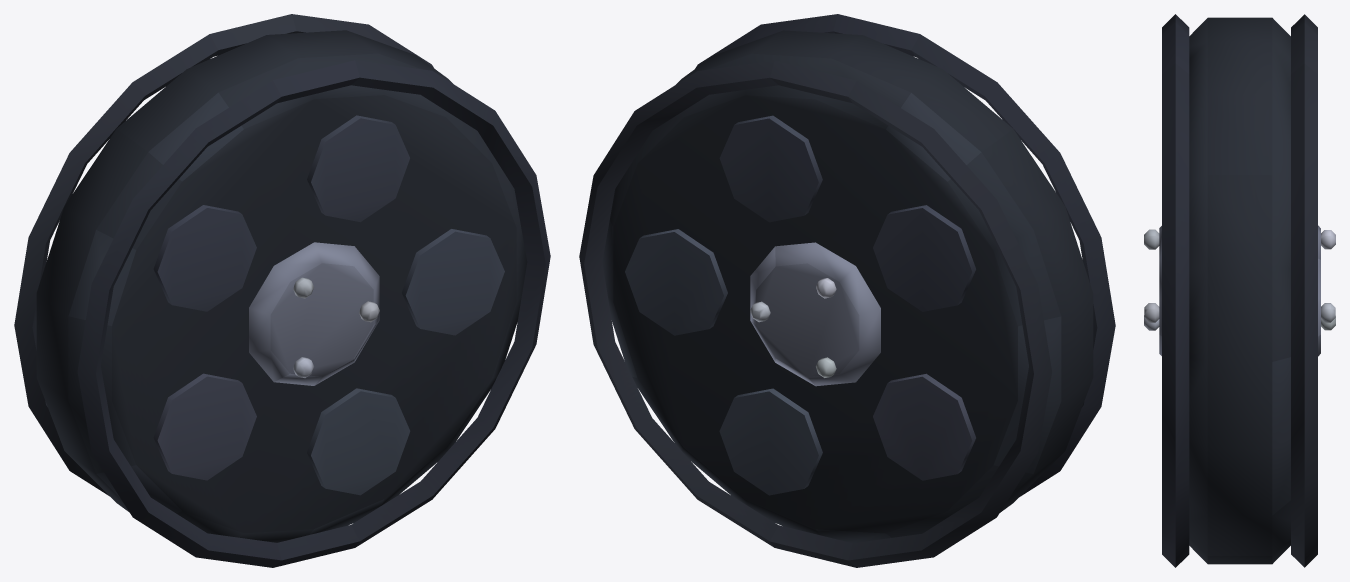
File: SM_Station_FilmCamera_Reel.fbx
The picture shows the model from 3 angles, left to right: view 1: azimuth 30°, elevation 25°; view 2: azimuth 150°, elevation 25°; view 3: azimuth 270°, elevation 25°; orthographic projection.
Parts seen in each view (by area): view 1: SM_Station_FilmCamera_Reel; view 2: SM_Station_FilmCamera_Reel; view 3: SM_Station_FilmCamera_Reel.
Boxes of the visible parts, box(x1,y1,x2,y2) form: SM_Station_FilmCamera_Reel: box(14, 14, 550, 567); SM_Station_FilmCamera_Reel: box(579, 14, 1115, 567); SM_Station_FilmCamera_Reel: box(1144, 14, 1335, 567).
Size of the model in its own units: 34.51 by 34.04 by 11.9.
